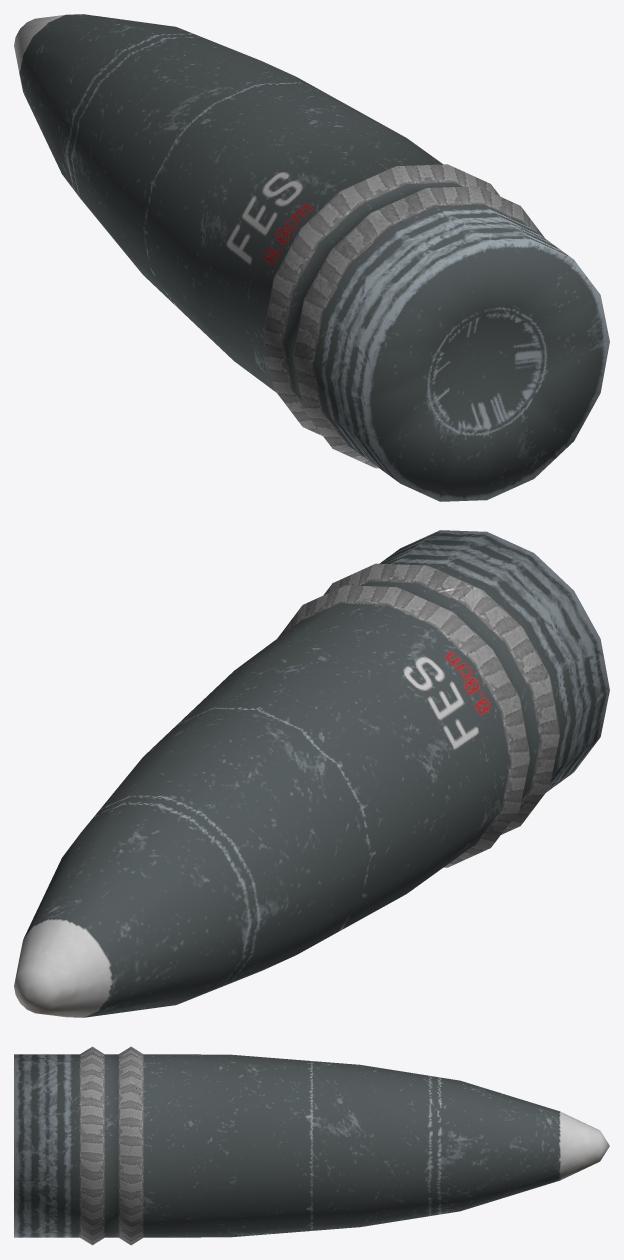
The model's file is shell.obj.
3 views of the same model, one above another, from view 1: azimuth 30°, elevation 25°; view 2: azimuth 150°, elevation 25°; view 3: azimuth 270°, elevation 25° (orthographic). The views are drawn at different scales.
Visible parts, largest first — view 1: Cylinder.001; view 2: Cylinder.001; view 3: Cylinder.001.
Boxes of the visible parts, x1,y1,x2,y2 form: Cylinder.001: (14, 14, 609, 501); Cylinder.001: (14, 530, 609, 1017); Cylinder.001: (14, 1046, 609, 1245).
Bounding box in the file's own units: 0.9546 × 0.9546 × 2.85.
